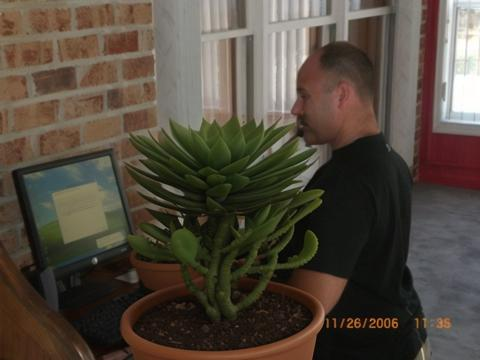dog: (147, 200, 238, 288)
person: (290, 42, 414, 322)
pottedplant: (122, 114, 325, 360)
tvmonitor: (10, 149, 138, 311)
